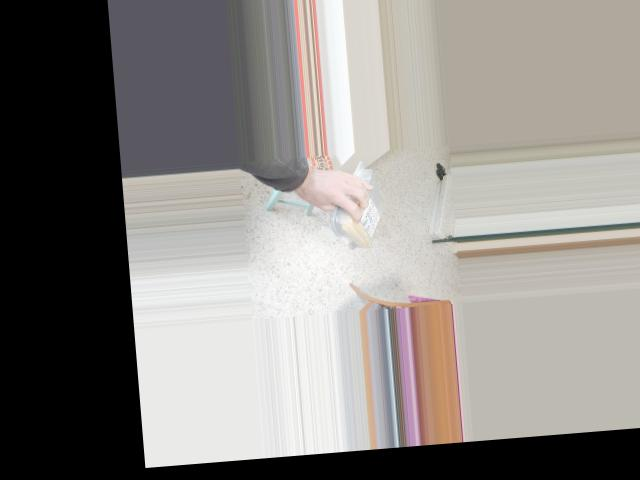cheese: (335, 160, 384, 250)
